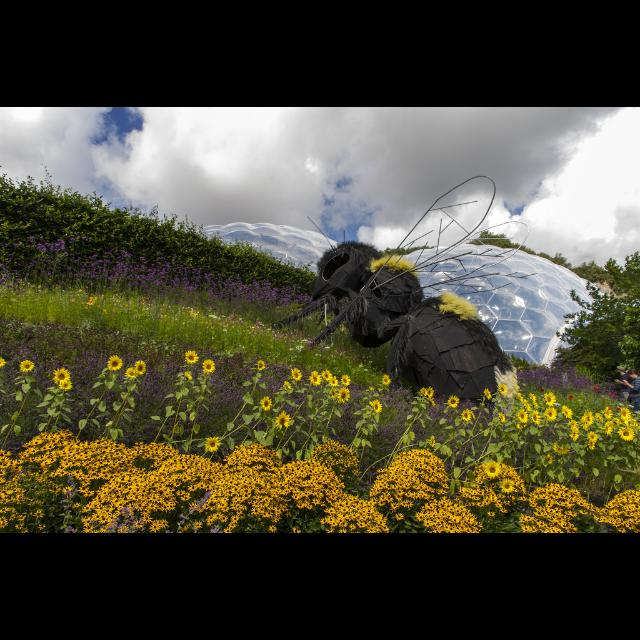Flower: (1, 431, 640, 534), (1, 351, 640, 447), (0, 286, 374, 376), (1, 235, 316, 301), (341, 298, 351, 308)
